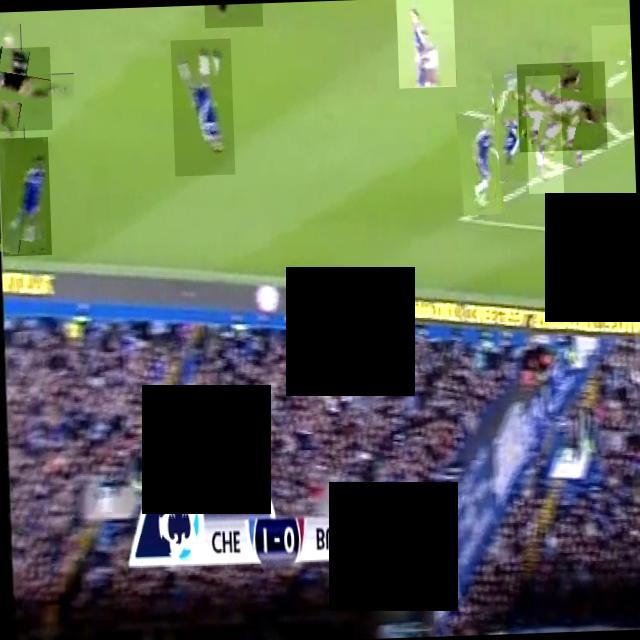referee: (0, 45, 51, 130)
soccer-player: (169, 37, 234, 175), (515, 60, 606, 151), (0, 135, 50, 255), (395, 0, 455, 87), (492, 67, 536, 182), (456, 106, 501, 214), (524, 74, 562, 192), (590, 23, 632, 97), (203, 2, 262, 27)
